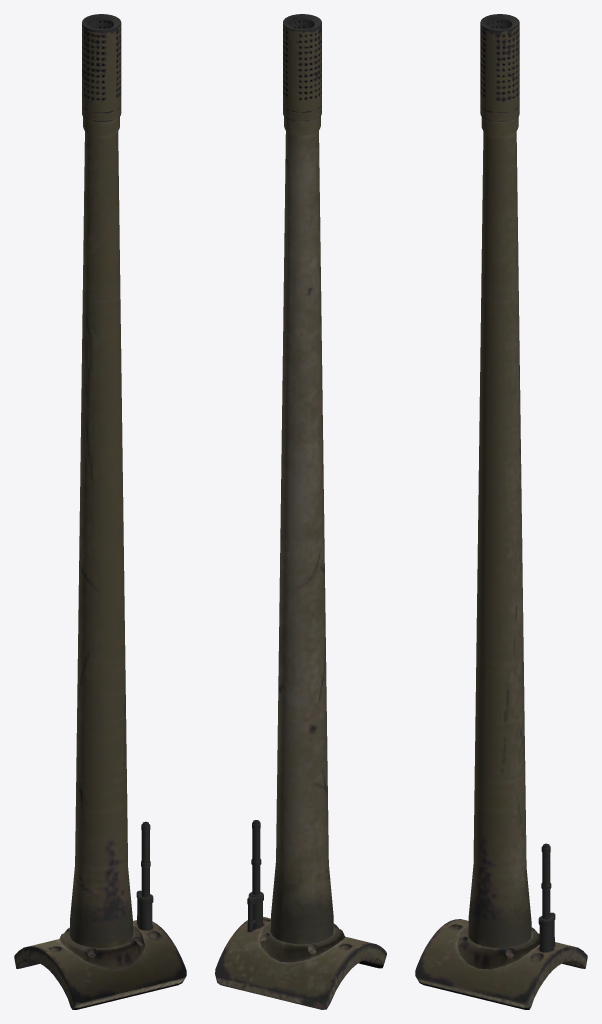
The model's file is Gun_02.glb.
3 views of the same model, side by side, from view 1: azimuth 30°, elevation 25°; view 2: azimuth 150°, elevation 25°; view 3: azimuth 330°, elevation 25° (orthographic).
Parts seen in each view (by area): view 1: set_0_group_0; view 2: set_0_group_0; view 3: set_0_group_0.
Part boxes in pixels (left/top/right/bottom): set_0_group_0: left=14, top=14, right=186, bottom=1009; set_0_group_0: left=215, top=14, right=386, bottom=1009; set_0_group_0: left=415, top=14, right=587, bottom=1009.
Size of the model in its own units: 0.5431 by 4.41 by 0.5312.
Materials: 1 (1 with a texture image).
